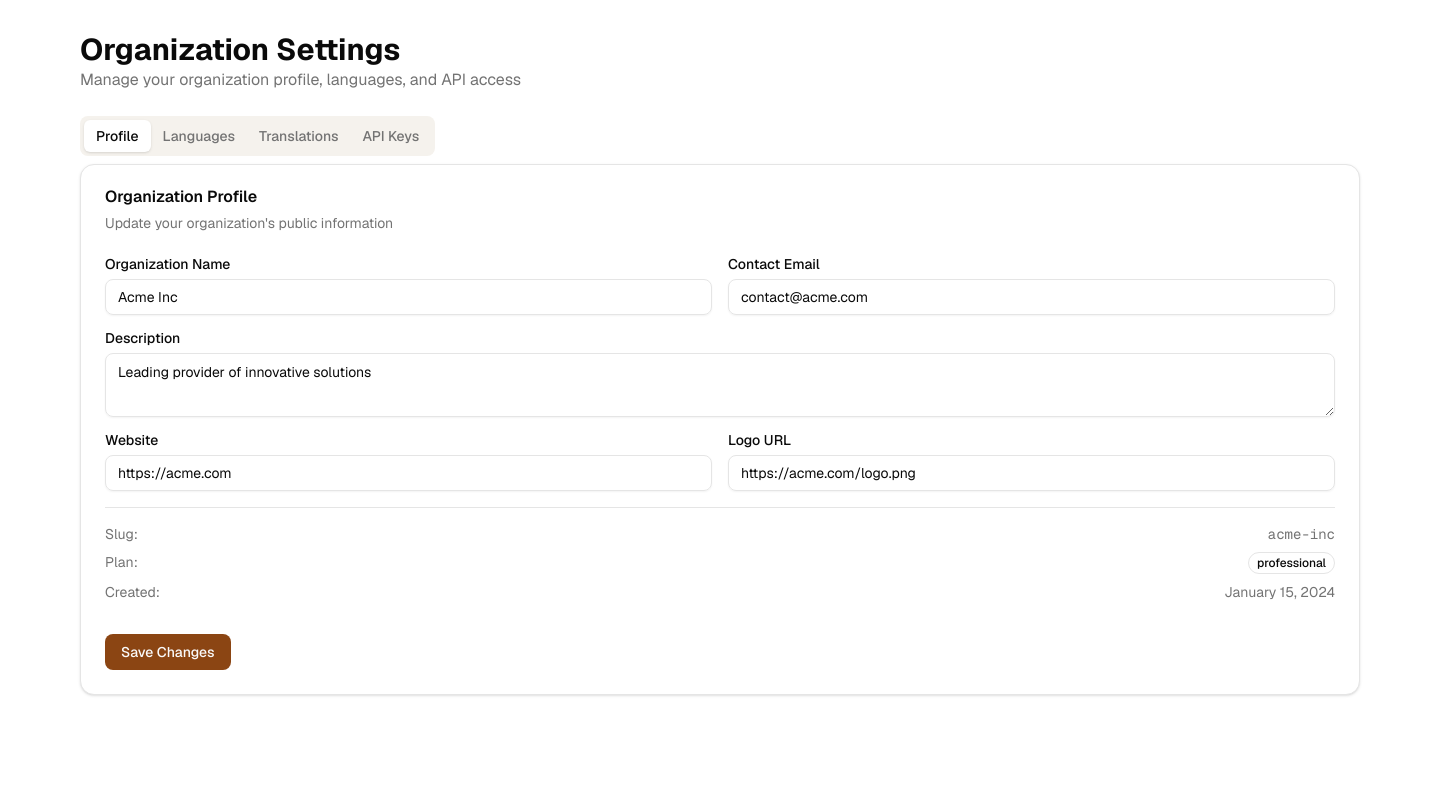
Test: OrganizationSettingsPage › Languages Tab - Locale Actions › should show confirmation dialog before deleting locale
The width and height of the screenshot is (1440, 810).
Step 1. Click the tab "Languages" → {"x": 199, "y": 136}, box [150, 120, 247, 152]
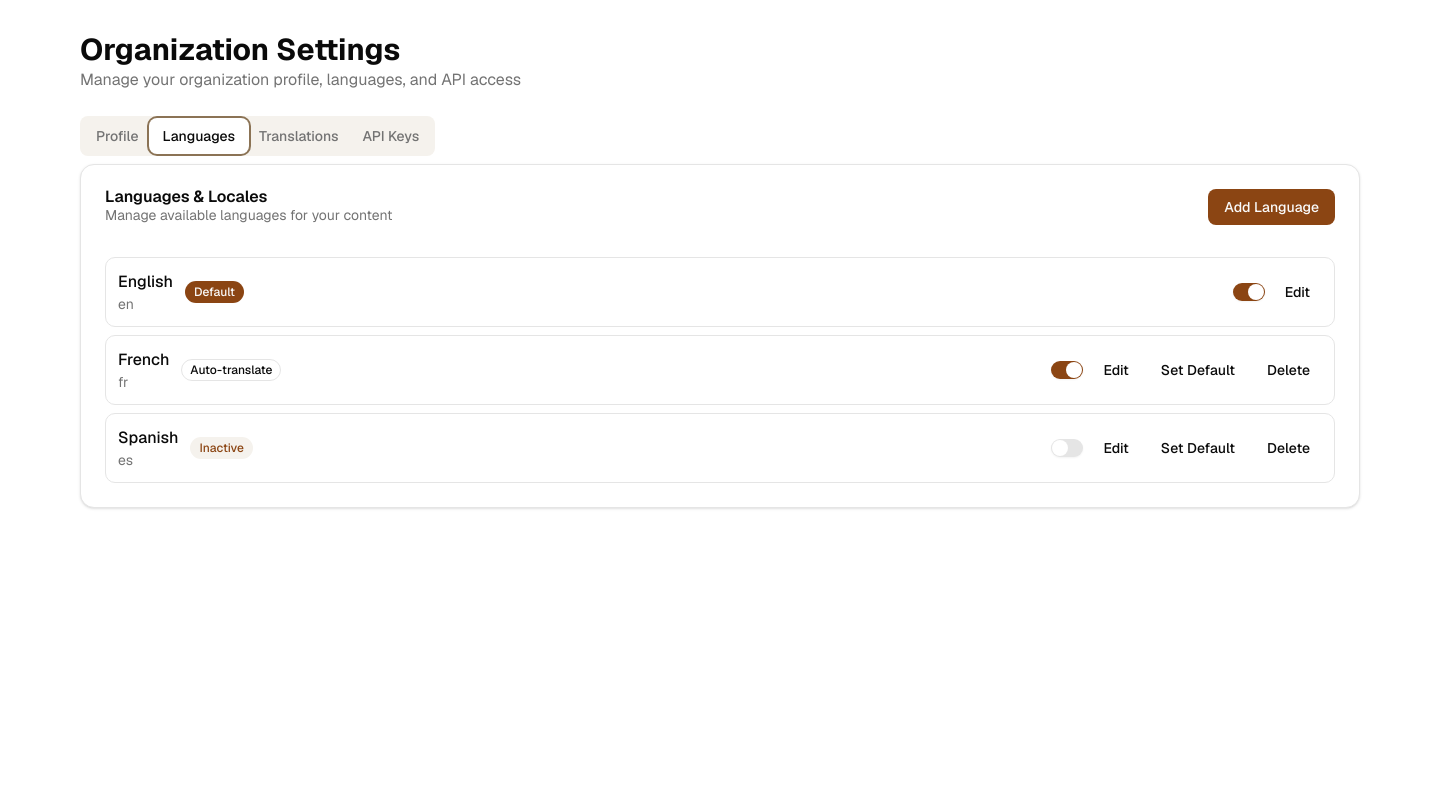
Now the number of buttons "Delete" is 2
Step 2. Click the button "Delete" in the row of "Auto-translate" → {"x": 1288, "y": 370}, box [1255, 354, 1322, 386]
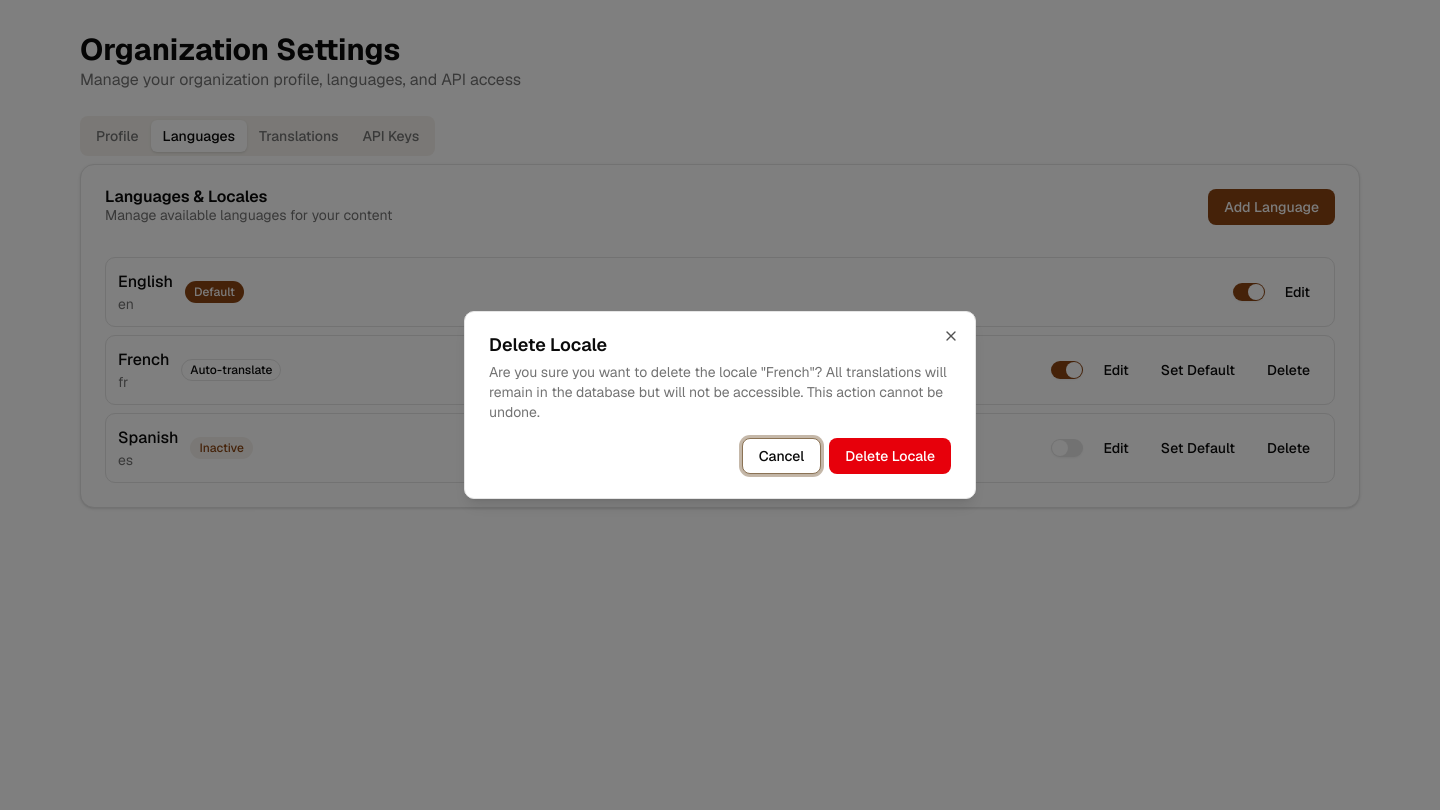
Now the dialog is shown, box [464, 311, 976, 499]
Now the text "Are you sure you want to delete the locale" is shown, box [489, 363, 766, 381]
Now the button "Cancel" is shown, box [742, 438, 821, 474]
